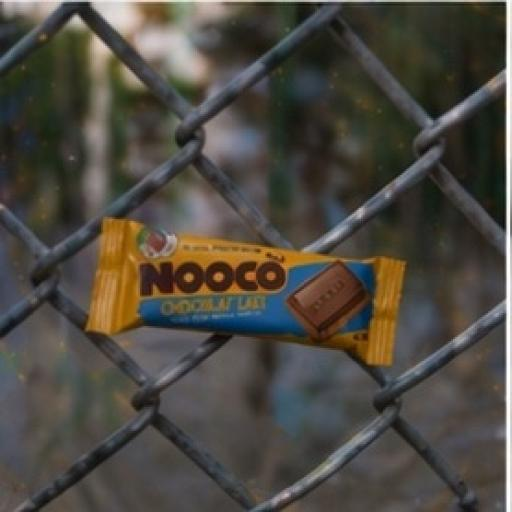biscuit-detection: (70, 178, 435, 405)
